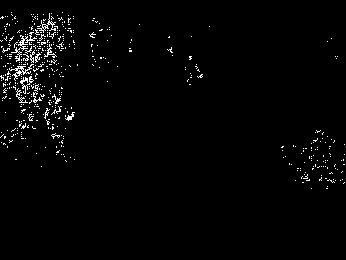person: (180, 53, 205, 91)
